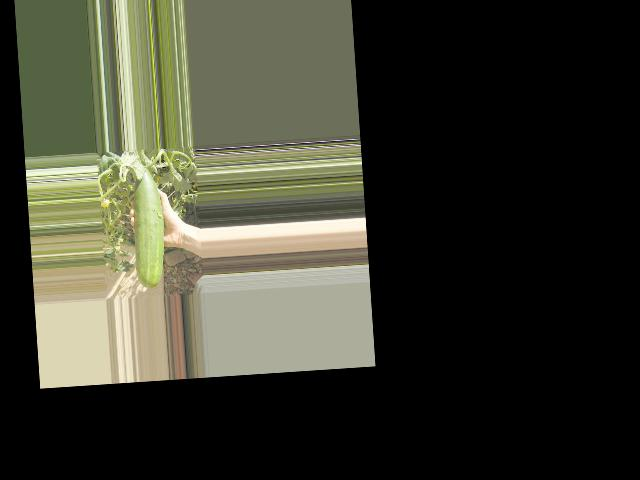cucumber: (129, 165, 168, 289)
